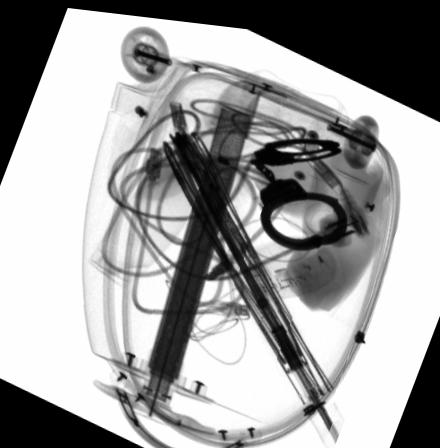HandCuffs: (246, 129, 359, 244)
